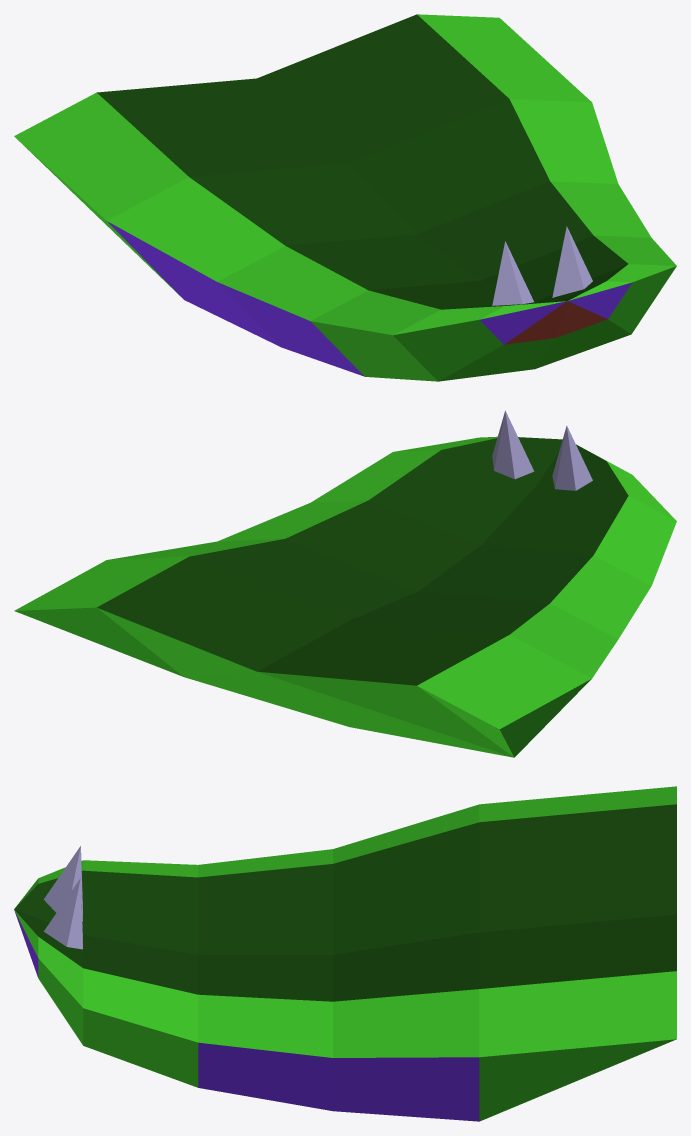
File: boca1.glb
3 views of the same model, one above another, from view 1: azimuth 30°, elevation 25°; view 2: azimuth 150°, elevation 25°; view 3: azimuth 270°, elevation 25° (orthographic). The views are drawn at different scales.
Visible parts, largest first — view 1: Boca; view 2: Boca; view 3: Boca.
Part boxes in pixels (x1,y1,x2,y2): Boca: (14, 14, 676, 381); Boca: (14, 410, 676, 757); Boca: (14, 786, 676, 1121).
Size of the model in its own units: 2.5 by 0.9011 by 2.77.
